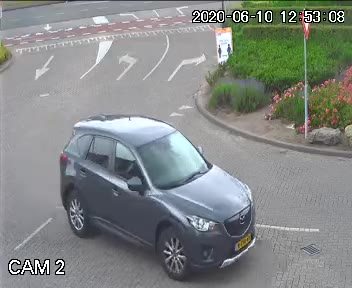car: (48, 107, 266, 266)
